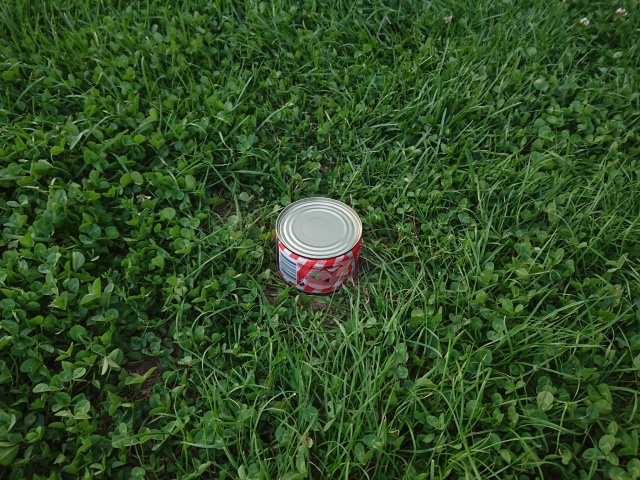Podravka Luncheon Meat 150g: (272, 193, 365, 298)
